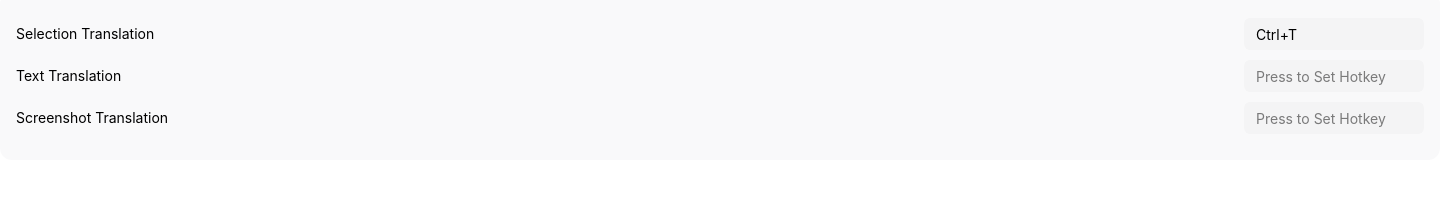
Test: Hotkey page save flow › backspace clears into a saveable empty binding
Press Backspace in the 1st field, box [1244, 18, 1424, 50]
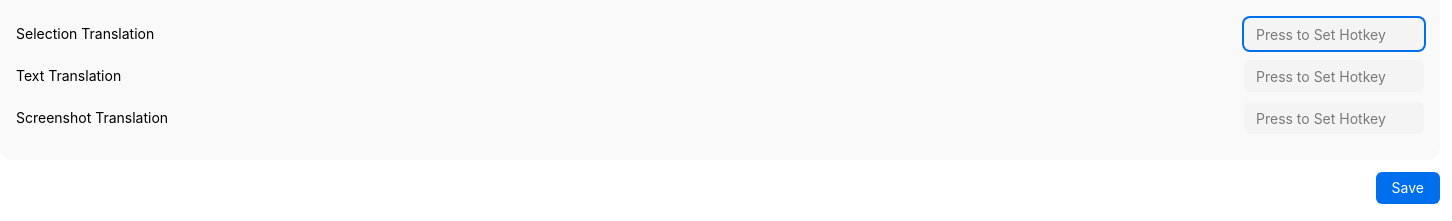
Expected: the field with placeholder "Press to Set Hotkey" in the row of "Selection Translation" is empty, [1244, 18, 1424, 50]
Click the button "Save": (1408, 188) [1376, 172, 1440, 204]
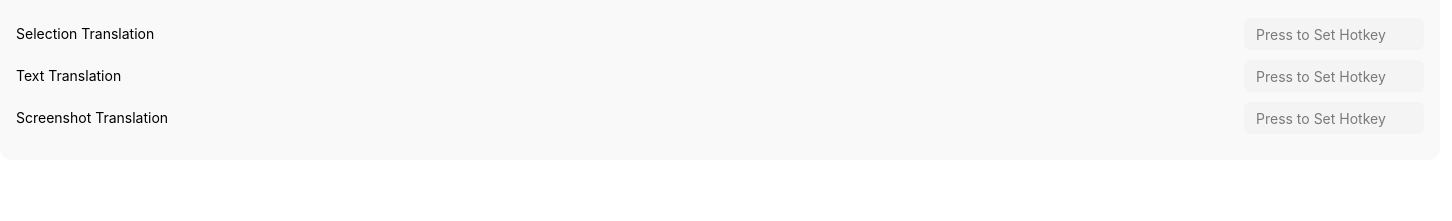
Expected: the button "Save" is gone
